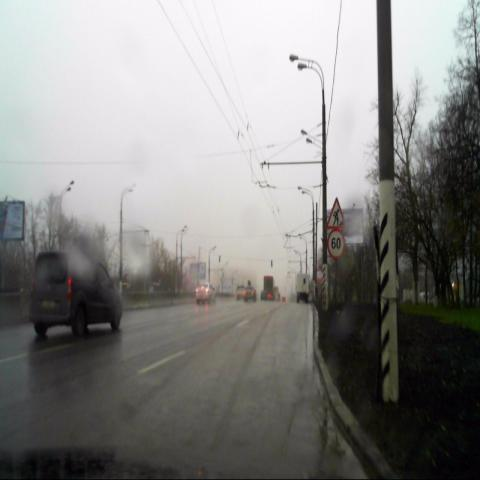1_25: (326, 197, 346, 229)
